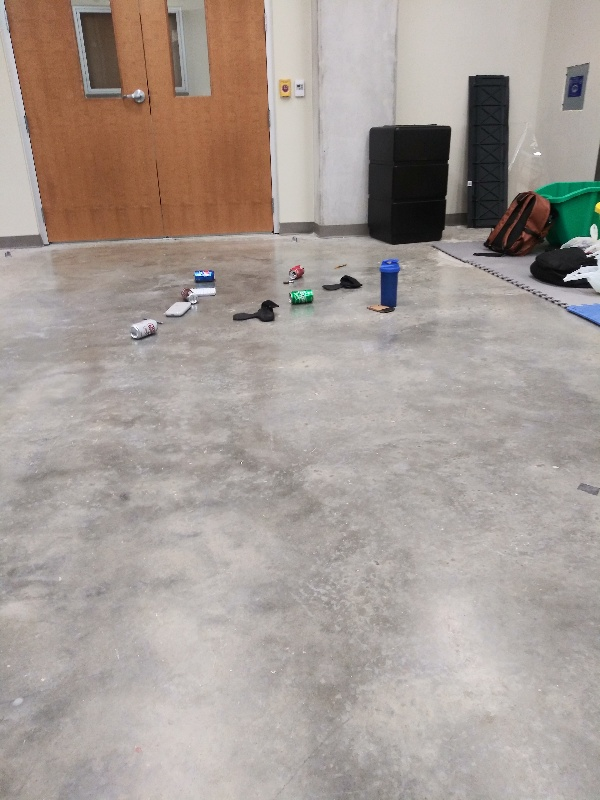can: (127, 319, 160, 339), (286, 288, 317, 306), (191, 269, 218, 283), (178, 287, 200, 304), (287, 263, 306, 280)
